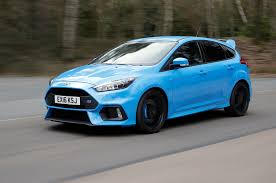car: (44, 36, 252, 129)
